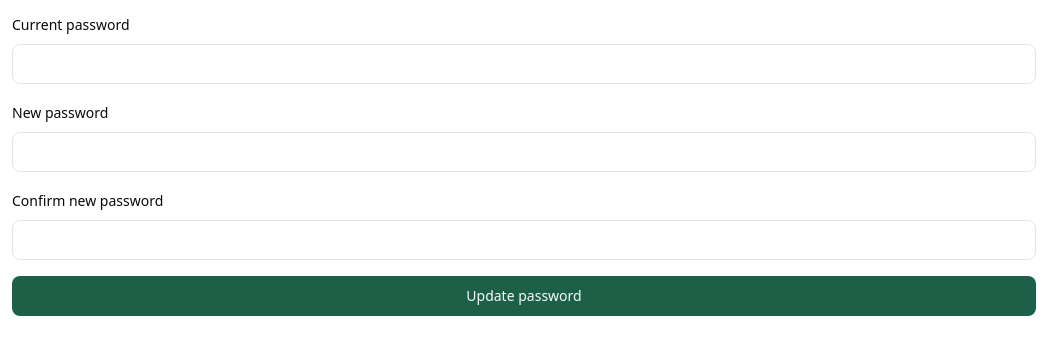
it: ChangePasswordForm › shows validation errors for mismatched confirm password
Type "Admin123!" into the password field labelled "Current password" at x=524, y=64, box [12,44,1036,84]
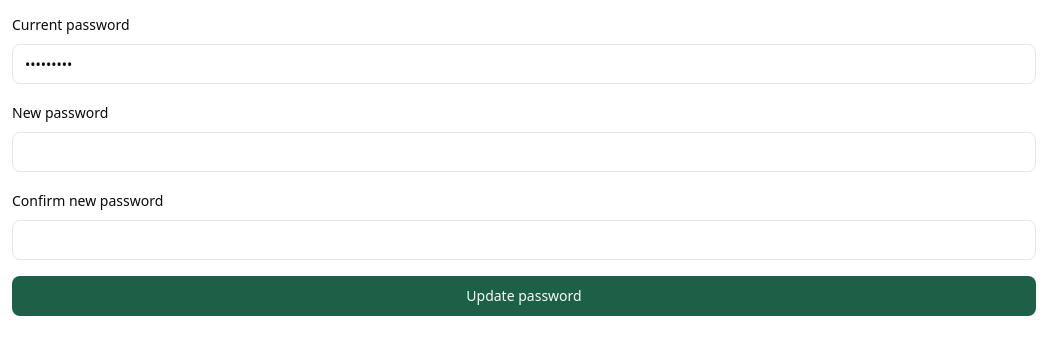
Type "NewPass123!" into the password field labelled "New password" at x=524, y=152, box [12,132,1036,172]
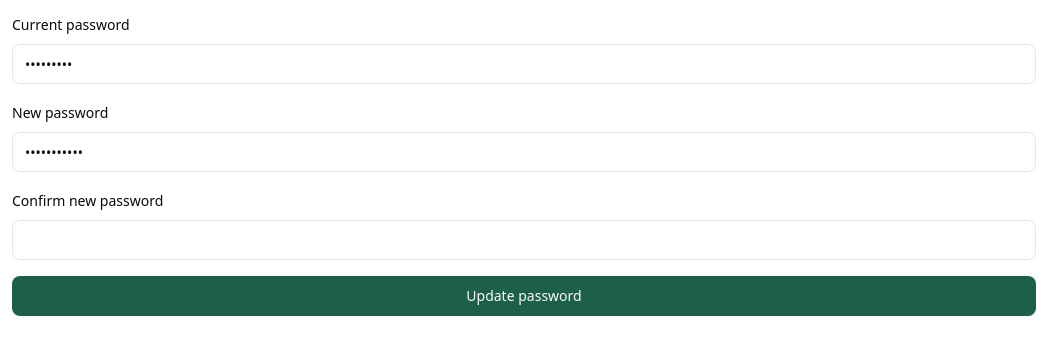
Type "Different123!" into the password field labelled "Confirm new password" at x=524, y=240, box [12,220,1036,260]
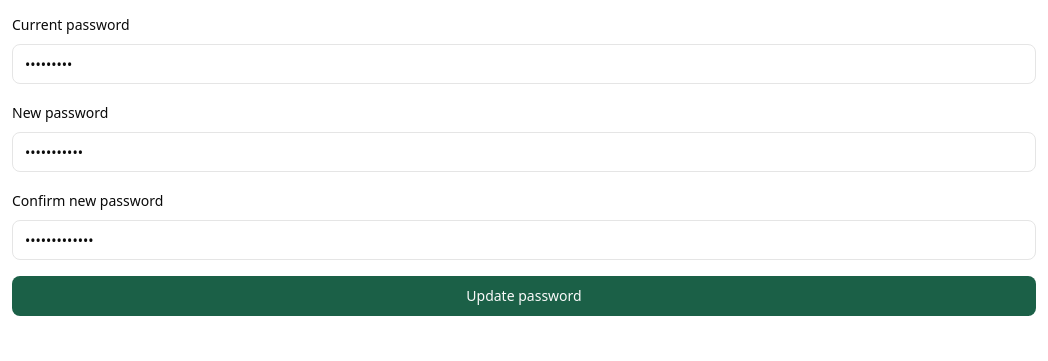
Click the button "Update password" at x=524, y=296, box [12,276,1036,316]
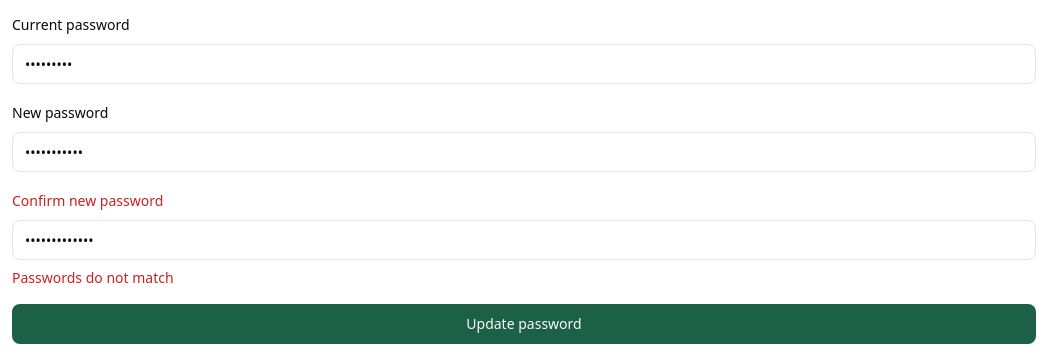
Now the text "Passwords do not match" is shown, box [12,268,174,287]
